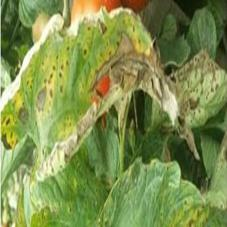Bacterial Spot: (0, 5, 202, 191)
